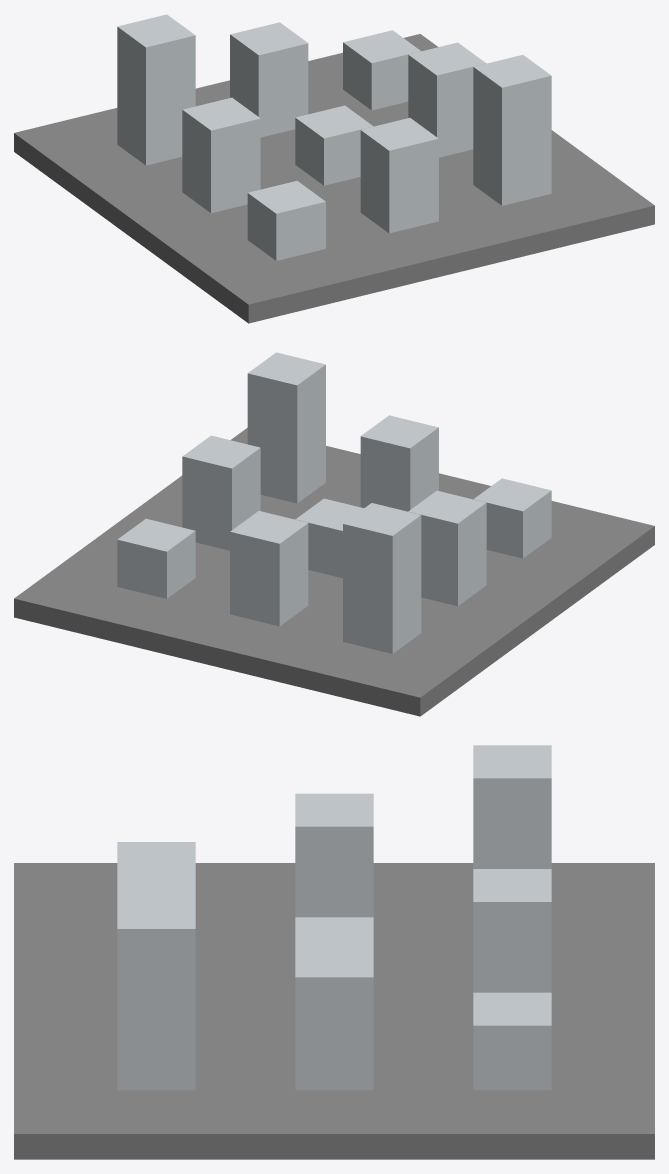
The model's file is apex-frame.glb.
3 renders of one model, top to bottom at view 1: azimuth 30°, elevation 25°; view 2: azimuth 150°, elevation 25°; view 3: azimuth 270°, elevation 25°, orthographic. The views are drawn at different scales.
Parts seen in each view (by area): view 1: world; view 2: world; view 3: world.
Boxes of the visible parts, x1,y1,x2,y2 form: world: [14, 14, 654, 323]; world: [14, 352, 654, 716]; world: [14, 745, 654, 1159].
Bounding box in the file's own units: 2 × 0.6444 × 2.
Materials: 1 (1 with a texture image).
